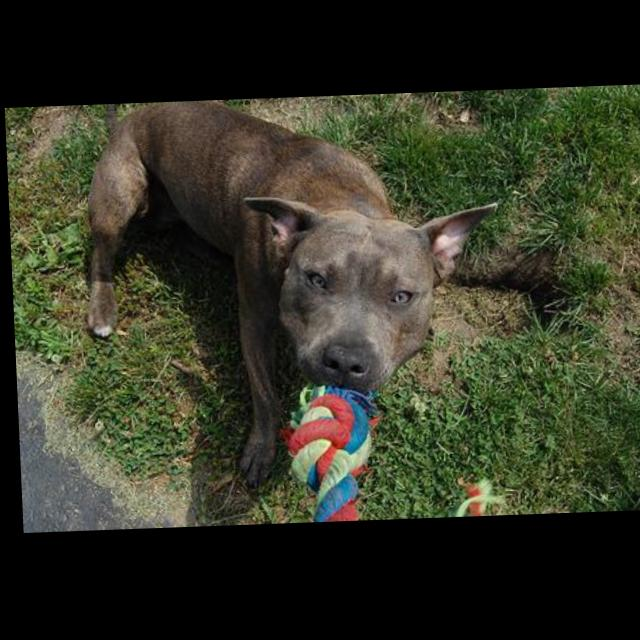amstaff: (75, 94, 506, 495)
